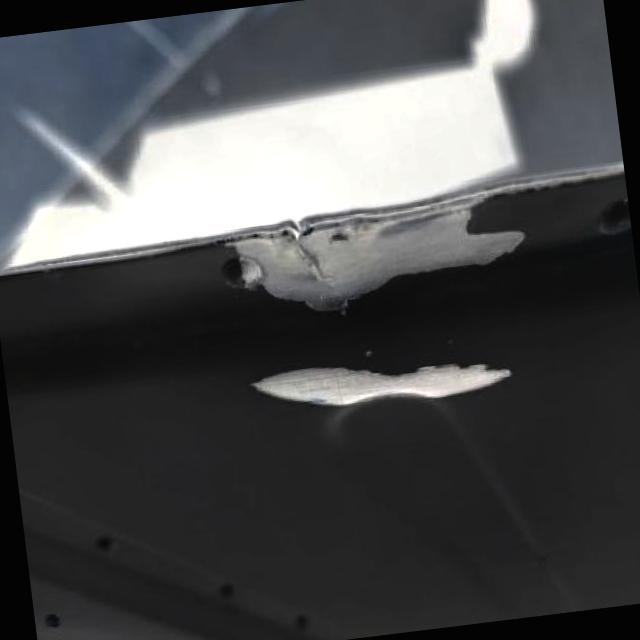crack: (276, 232, 332, 296)
